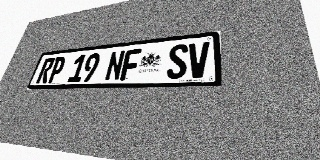1: (67, 54, 88, 82)
9: (80, 53, 101, 82)
F: (120, 48, 142, 81)
N: (104, 50, 126, 81)
P: (46, 56, 67, 83)
R: (35, 57, 56, 84)
S: (166, 44, 188, 79)
V: (187, 41, 209, 78)
